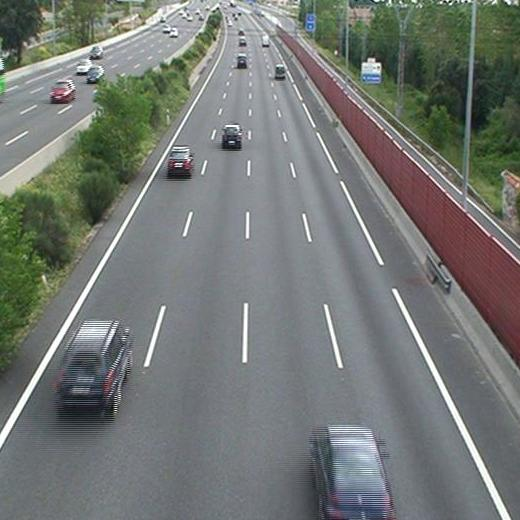car: (313, 425, 390, 520), (60, 322, 130, 406), (168, 148, 192, 174), (223, 125, 240, 145), (237, 53, 248, 68), (274, 65, 285, 77), (238, 37, 247, 45)
van: (262, 35, 269, 46)
